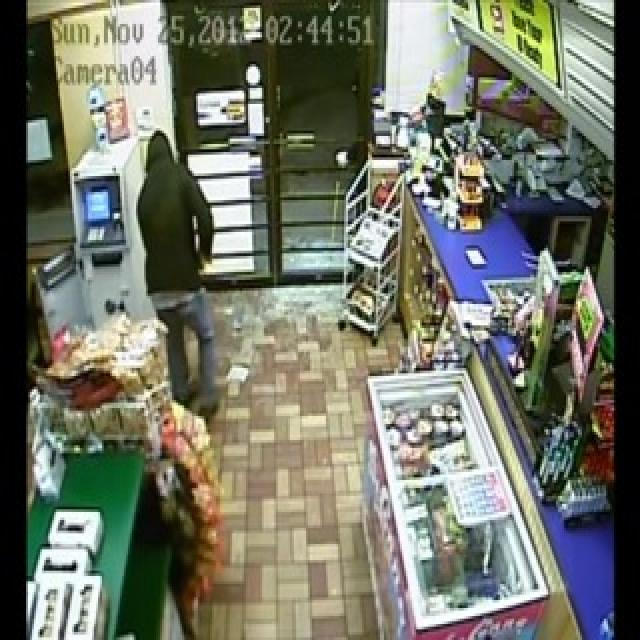thief: (94, 108, 240, 406)
